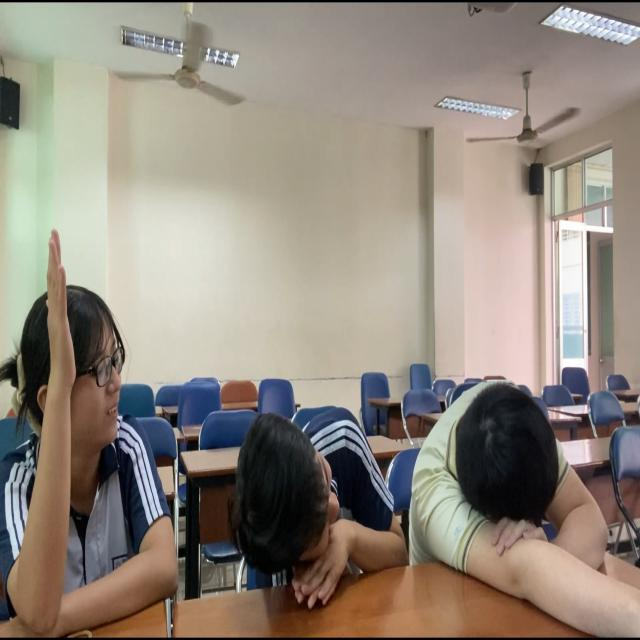raise_hand: (1, 222, 187, 640)
sleep: (409, 382, 630, 587), (220, 385, 412, 607)
